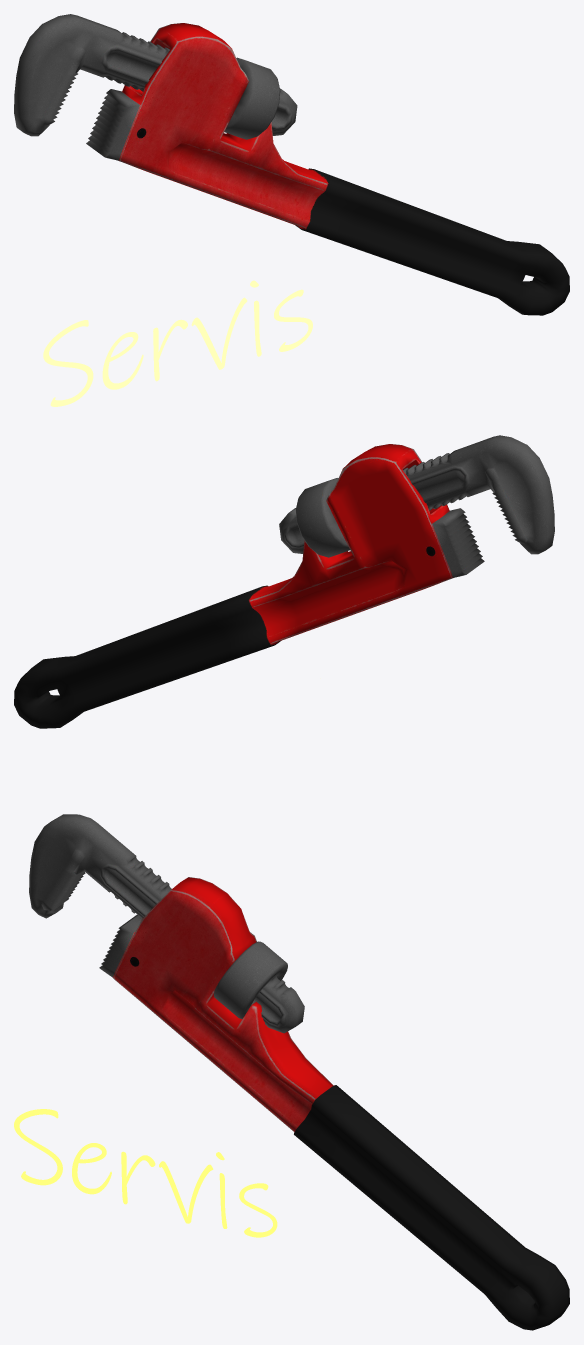
Rendered from servis.glb.
The picture shows the model from 3 angles, top to bottom: view 1: azimuth 30°, elevation 25°; view 2: azimuth 150°, elevation 25°; view 3: azimuth 330°, elevation 25°; orthographic projection. The views are drawn at different scales.
Visible parts, largest first — view 1: servis, Servis; view 2: servis; view 3: servis, Servis.
Boxes of the visible parts, box(x1,y1,x2,y2) form: servis: box(14, 14, 569, 315); Servis: box(43, 280, 312, 406); servis: box(14, 435, 554, 728); servis: box(29, 814, 569, 1330); Servis: box(14, 1109, 277, 1237).
Bounding box in the file's own units: 0.6475 × 0.4623 × 0.0855.
2 materials, 1 textured.
